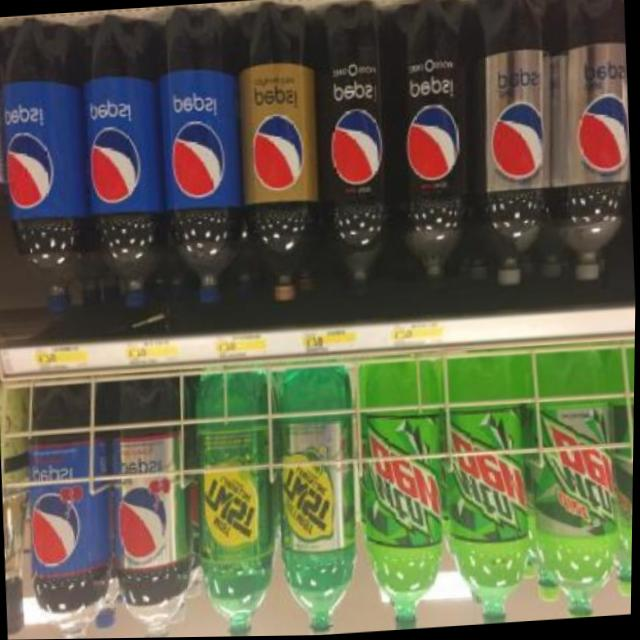Drinks: (151, 4, 249, 309), (75, 9, 173, 314), (229, 0, 326, 306), (461, 0, 563, 291), (382, 0, 480, 299), (0, 13, 95, 318), (305, 0, 399, 306), (524, 348, 627, 622), (543, 0, 639, 286), (438, 355, 535, 628), (356, 360, 450, 633), (105, 376, 201, 639), (23, 379, 119, 640)
